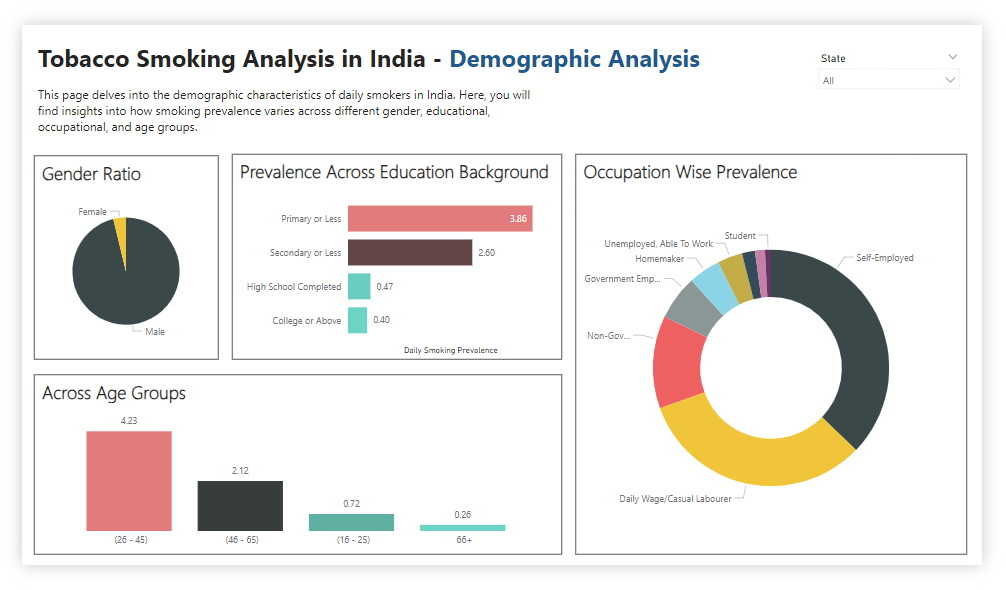

The page's visual inventory and layout, read from the dashboard file:
{"tool":"powerbi","page":{"name":"Demographics","canvas":[1280,720],"ordinal":1},"visuals":[{"type":"textbox","box":[16,16,912,60],"z":0},{"type":"textbox","box":[16,76,688,76],"z":1000},{"type":"pieChart","title":"Gender Ratio","fields":{"Category":["GATS 2016.Gender"],"Y":["Key Measures.No of people who smoke daily"]},"box":[16,174,246,272],"z":2000},{"type":"slicer","fields":{"Values":["GATS 2016.State"]},"box":[1052,30,208,90],"z":3000},{"type":"barChart","title":"Prevalence Across Education Background","fields":{"Category":["GATS 2016.Education Level (groups)"],"Y":["Key Measures.No of people who smoke daily"]},"box":[280,172,440,274],"z":4000},{"type":"donutChart","title":"Occupation Wise Prevalence","fields":{"Category":["GATS 2016.Occupation"],"Y":["Key Measures.No of people who smoke daily"]},"box":[738,172,522,534],"z":5000},{"type":"columnChart","title":"Across Age Groups","fields":{"Category":["GATS 2016.AGE (groups)"],"Y":["Key Measures.No of people who smoke daily"]},"box":[16,466,704,240],"z":6000}]}

Visuals, with their boxes on the page's 1280x720 design canvas (x1, y1, x2, y2). These are canvas units, not pixel positions in the 1006x590 screenshot, which may show the page scaled, cropped or inside an application window:
textbox: bbox=[16, 16, 928, 76]
textbox: bbox=[16, 76, 704, 152]
"Gender Ratio" pieChart: bbox=[16, 174, 262, 446]
slicer - GATS 2016.State: bbox=[1052, 30, 1260, 120]
"Prevalence Across Education Background" barChart: bbox=[280, 172, 720, 446]
"Occupation Wise Prevalence" donutChart: bbox=[738, 172, 1260, 706]
"Across Age Groups" columnChart: bbox=[16, 466, 720, 706]
